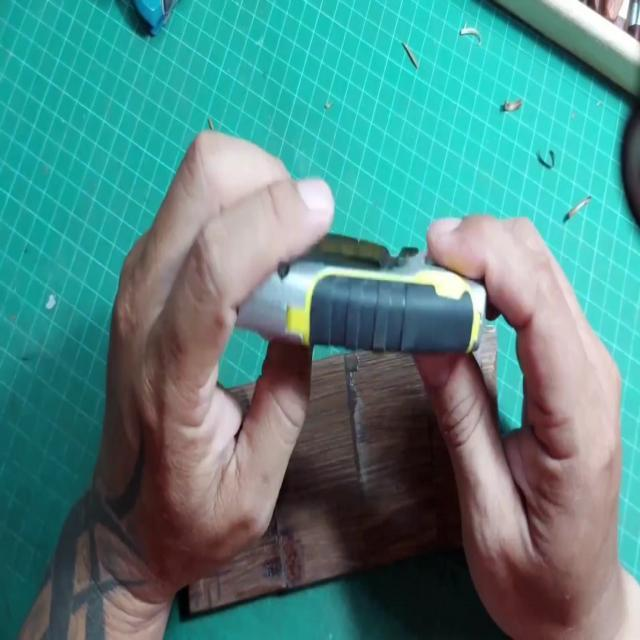cutter: (123, 128, 605, 580)
